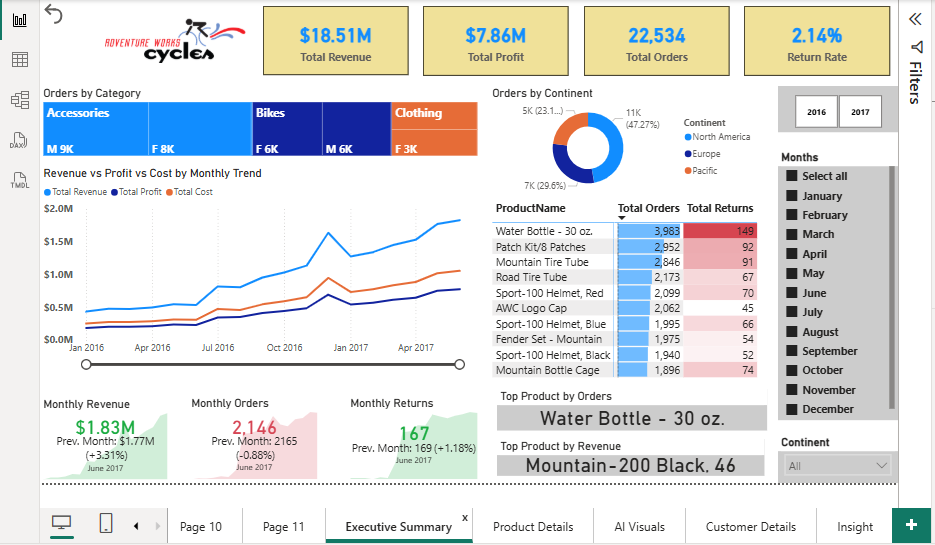

The page's visual inventory and layout, read from the dashboard file:
{"tool":"powerbi","page":{"name":"Executive Summary","canvas":[1280,720],"ordinal":11},"visuals":[{"type":"group","id":"g1","title":"Group 1","box":[332.6,8.6,936,103.7],"z":0},{"type":"card","fields":{"Values":["Sales Data.Total Revenue"]},"box":[332.6,8.9,216.8,103],"z":0,"group":"g1"},{"type":"image","box":[97.4,8.5,211.9,104.2],"z":1000},{"type":"card","fields":{"Values":["Sales Data.Total Profit"]},"box":[571.9,8.7,217.2,103.5],"z":1000,"group":"g1"},{"type":"kpi","title":"Monthly Revenue","fields":{"Indicator":["Sales Data.Total Revenue"],"Goal":["Sales Data.Prev. Month Revenue"],"TrendLine":["Calendar_lookup.Start of Month"]},"box":[0,592.1,195.5,127.9],"z":1000,"group":"g2"},{"type":"card","fields":{"Values":["Sales Data.Total Orders"]},"box":[811.6,8.7,217.2,103.5],"z":2000,"group":"g1"},{"type":"treemap","title":"Orders by Category","fields":{"Group":["Product_Categories_lookup.CategoryName"],"Values":["Sales Data.Total Orders"],"Details":["Customers_lookup.Gender"]},"box":[0,128.2,658.1,109.4],"z":2000},{"type":"kpi","title":"Monthly Orders","fields":{"TrendLine":["Calendar_lookup.Start of Month"],"Indicator":["Sales Data.Total Orders"],"Goal":["Sales Data.Prev Month Orders"]},"box":[220.8,590.7,198.3,129.3],"z":2000,"group":"g2"},{"type":"card","fields":{"Values":["ReturnsQunatity.Return Rate"]},"box":[1050.7,8.6,217.9,103.7],"z":3000,"group":"g1"},{"type":"lineChart","title":"Revenue vs Profit vs Cost by Monthly Trend","fields":{"Category":["Calendar_lookup.Start of Month.Variation.Date Hierarchy.Year","Calendar_lookup.Start of Month.Variation.Date Hierarchy.Quarter","Calendar_lookup.Start of Month.Variation.Date Hierarchy.Month","Calendar_lookup.Start of Month.Variation.Date Hierarchy.Day"],"Y":["Sales Data.Total Revenue","Sales Data.Total Profit","Sales Data.Total Cost"]},"box":[0,247.7,658.1,306.7],"z":3000},{"type":"kpi","title":"Monthly Returns","fields":{"TrendLine":["Calendar_lookup.Start of Month"],"Indicator":["ReturnsQunatity.Qty Returned"],"Goal":["Sales Data.Prev. Month Returns"]},"box":[458.4,590.4,199.7,129.3],"z":3000,"group":"g2"},{"type":"group","id":"g2","title":"Group 2","box":[0,590.4,658.1,129.6],"z":4000},{"type":"pivotTable","fields":{"Values":["Sales Data.Total Orders","ReturnsQunatity.Total Returns"],"Rows":["Product_Categories_lookup.CategoryName","Product_Subcategories_lookup.SubcategoryName","Products_lookup.ProductName"]},"box":[669.6,293.8,414.7,286.6],"z":5000},{"type":"donutChart","title":"Orders by Continent","fields":{"Category":["Territories_lookup.Continent"],"Y":["Sales Data.Total Orders"]},"box":[669.6,128.2,404.6,165.6],"z":6000},{"type":"card","title":"Top Product by Orders","fields":{"Values":["Min(Products_lookup.ProductName)"]},"box":[681.1,580.3,403.2,61.9],"z":7000},{"type":"card","title":"Top Product by Revenue","fields":{"Values":["Min(Products_lookup.ProductName)"]},"box":[681.1,655.2,398.9,54.7],"z":8000},{"type":"slicer","fields":{"Values":["Calendar_lookup.Year"]},"box":[1101.6,128.2,178.6,69.1],"z":9000},{"type":"slicer","title":"Months","fields":{"Values":["Calendar_lookup.Month Name"]},"box":[1101.6,211.7,178.6,414.7],"z":10000},{"type":"slicer","title":"Continent","fields":{"Values":["Territories_lookup.Continent"]},"box":[1101.6,636.5,178.6,83.5],"z":11000},{"type":"actionButton","box":[0,0,51.8,40.3],"z":12000}]}

Visuals, with their boxes on the page's 1280x720 design canvas (x1, y1, x2, y2). These are canvas units, not pixel positions in the 935x545 screenshot, which may show the page scaled, cropped or inside an application window:
"Group 1" group: (333, 9, 1269, 112)
card - Sales Data.Total Revenue: (333, 9, 549, 112)
image: (97, 8, 309, 113)
card - Sales Data.Total Profit: (572, 9, 789, 112)
"Monthly Revenue" kpi: (0, 592, 196, 720)
card - Sales Data.Total Orders: (812, 9, 1029, 112)
"Orders by Category" treemap: (0, 128, 658, 238)
"Monthly Orders" kpi: (221, 591, 419, 720)
card - ReturnsQunatity.Return Rate: (1051, 9, 1269, 112)
"Revenue vs Profit vs Cost by Monthly Trend" lineChart: (0, 248, 658, 554)
"Monthly Returns" kpi: (458, 590, 658, 720)
"Group 2" group: (0, 590, 658, 720)
pivotTable - Sales Data.Total Orders x ReturnsQunatity.Total Returns: (670, 294, 1084, 580)
"Orders by Continent" donutChart: (670, 128, 1074, 294)
"Top Product by Orders" card: (681, 580, 1084, 642)
"Top Product by Revenue" card: (681, 655, 1080, 710)
slicer - Calendar_lookup.Year: (1102, 128, 1280, 197)
"Months" slicer: (1102, 212, 1280, 626)
"Continent" slicer: (1102, 636, 1280, 720)
actionButton: (0, 0, 52, 40)
